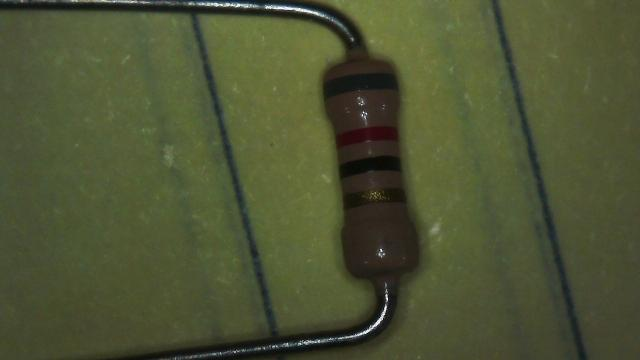black: (339, 156, 400, 179)
gold: (344, 188, 406, 209)
grey: (324, 77, 400, 92)
red: (337, 126, 398, 148)
resistor: (298, 35, 442, 308)
